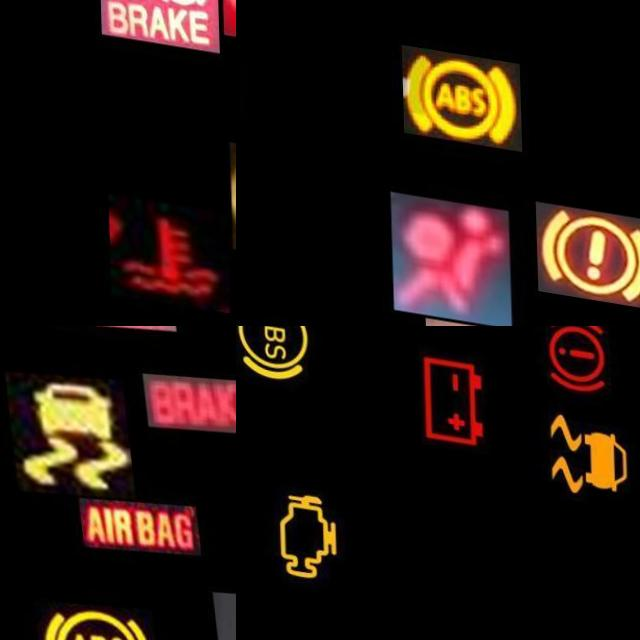Engine cooling system: (106, 190, 227, 305)
